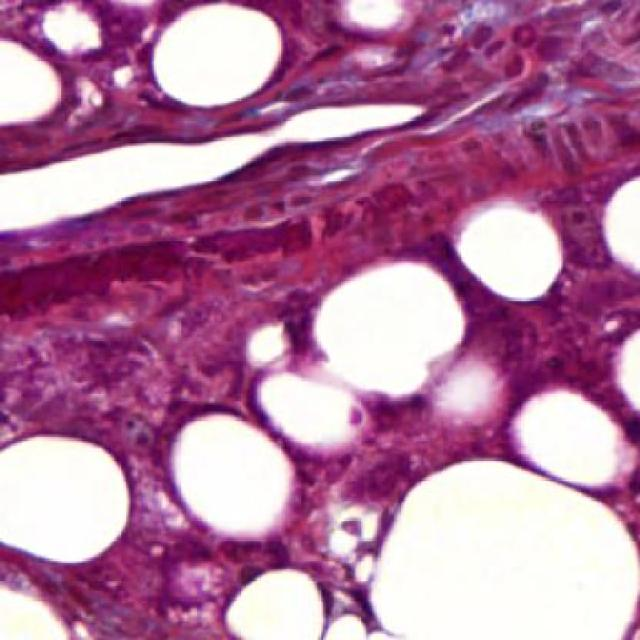steatosis: (160, 403, 296, 544), (137, 8, 295, 110), (452, 200, 576, 305)
